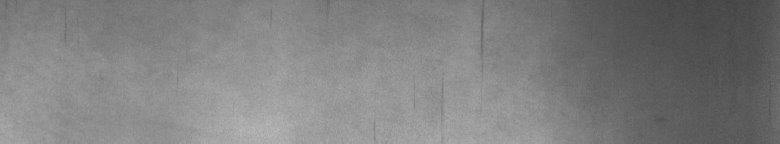ka: (441, 4, 488, 115)
